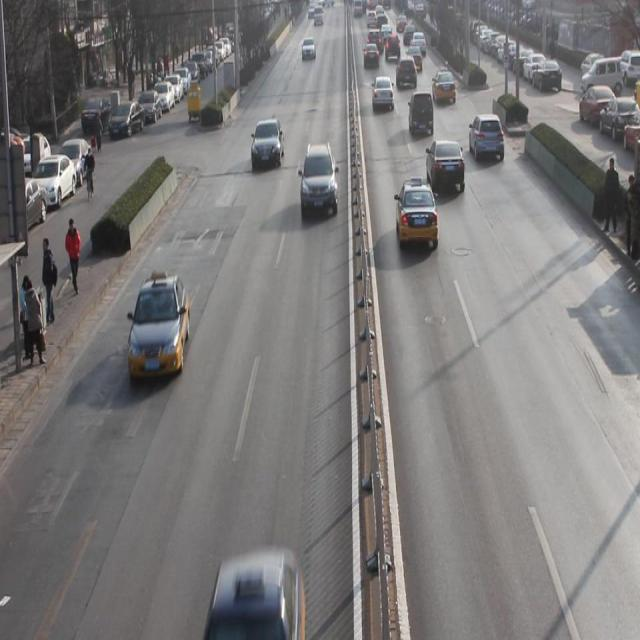car: (209, 551, 305, 640), (128, 276, 190, 378), (396, 177, 438, 251), (298, 143, 339, 218), (426, 142, 465, 195), (250, 120, 286, 169), (470, 115, 504, 162), (433, 68, 457, 106), (397, 54, 420, 92), (372, 74, 394, 110)
truck: (410, 90, 436, 140)
